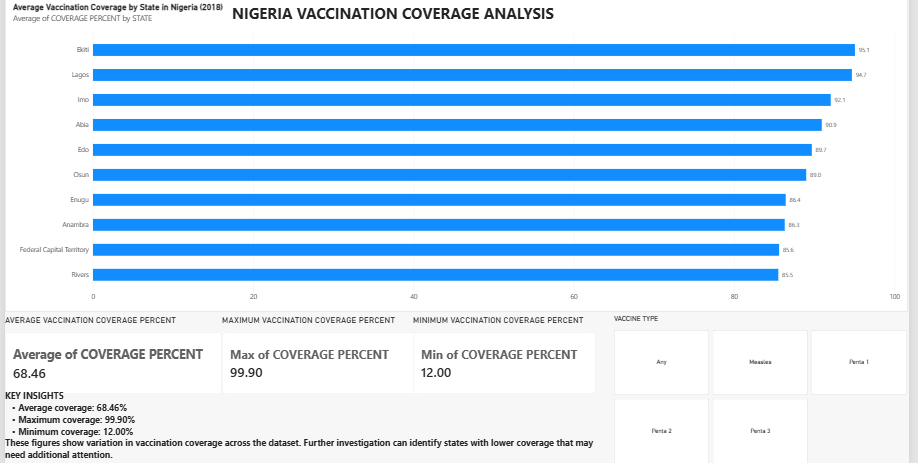

The page's visual inventory and layout, read from the dashboard file:
{"tool":"powerbi","page":{"name":"Page 1","canvas":[1920,1080],"ordinal":0},"visuals":[{"type":"clusteredBarChart","title":"Average Vaccination Coverage by State in Nigeria (2018)","fields":{"Category":["Table1.STATE"],"Y":["Avg(Table1.COVERAGE PERCENT)"]},"box":[0,82.9,1919.8,673.9],"z":0},{"type":"cardVisual","title":"AVERAGE VACCINATION COVERAGE PERCENT","fields":{"Data":["Avg(Table1.COVERAGE PERCENT)"]},"box":[0,763.5,461.1,168.8],"z":1000},{"type":"cardVisual","title":"MAXIMUM VACCINATION COVERAGE PERCENT","fields":{"Data":["Max(Table1.COVERAGE PERCENT)"]},"box":[461.1,763.5,423.3,168.8],"z":2000},{"type":"cardVisual","title":"MINIMUM VACCINATION COVERAGE PERCENT","fields":{"Data":["Min(Table1.COVERAGE PERCENT)"]},"box":[866.8,763.5,388,168.8],"z":3000},{"type":"advancedSlicerVisual","fields":{"Values":["Table1.VACCINE TYPE"]},"box":[1295.1,763.5,624.9,317.5],"z":4000},{"type":"textbox","box":[100,100,300,300],"z":4001},{"type":"textbox","box":[418.3,0,1428.7,83.1],"z":4002},{"type":"textbox","box":[0,922.7,1256.5,157.3],"z":4003},{"type":"textbox","box":[482.6,57.4,922.7,116.9],"z":4004},{"type":"textbox","box":[482.6,99.9,1203.3,74.4],"z":4005},{"type":"textbox","box":[100,100,300,300],"z":4006}]}

Visuals, with their boxes on the page's 1920x1080 design canvas (x1, y1, x2, y2). These are canvas units, not pixel positions in the 918x463 screenshot, which may show the page scaled, cropped or inside an application window:
"Average Vaccination Coverage by State in Nigeria (2018)" clusteredBarChart: rect(0, 83, 1920, 757)
"AVERAGE VACCINATION COVERAGE PERCENT" cardVisual: rect(0, 764, 461, 932)
"MAXIMUM VACCINATION COVERAGE PERCENT" cardVisual: rect(461, 764, 884, 932)
"MINIMUM VACCINATION COVERAGE PERCENT" cardVisual: rect(867, 764, 1255, 932)
advancedSlicerVisual - Table1.VACCINE TYPE: rect(1295, 764, 1920, 1081)
textbox: rect(100, 100, 400, 400)
textbox: rect(418, 0, 1847, 83)
textbox: rect(0, 923, 1256, 1080)
textbox: rect(483, 57, 1405, 174)
textbox: rect(483, 100, 1686, 174)
textbox: rect(100, 100, 400, 400)
